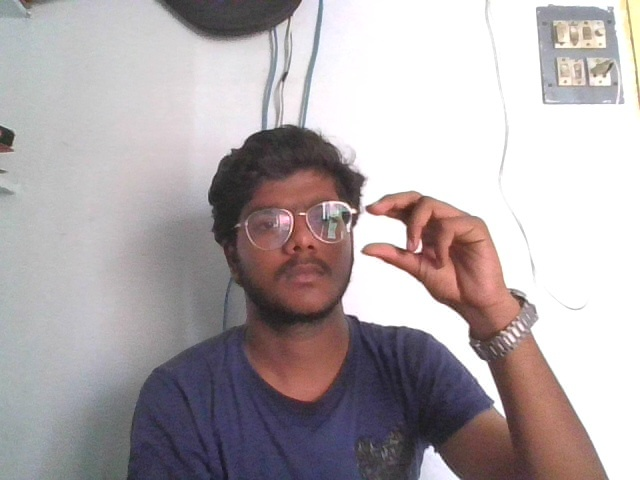No: (358, 181, 521, 319)
